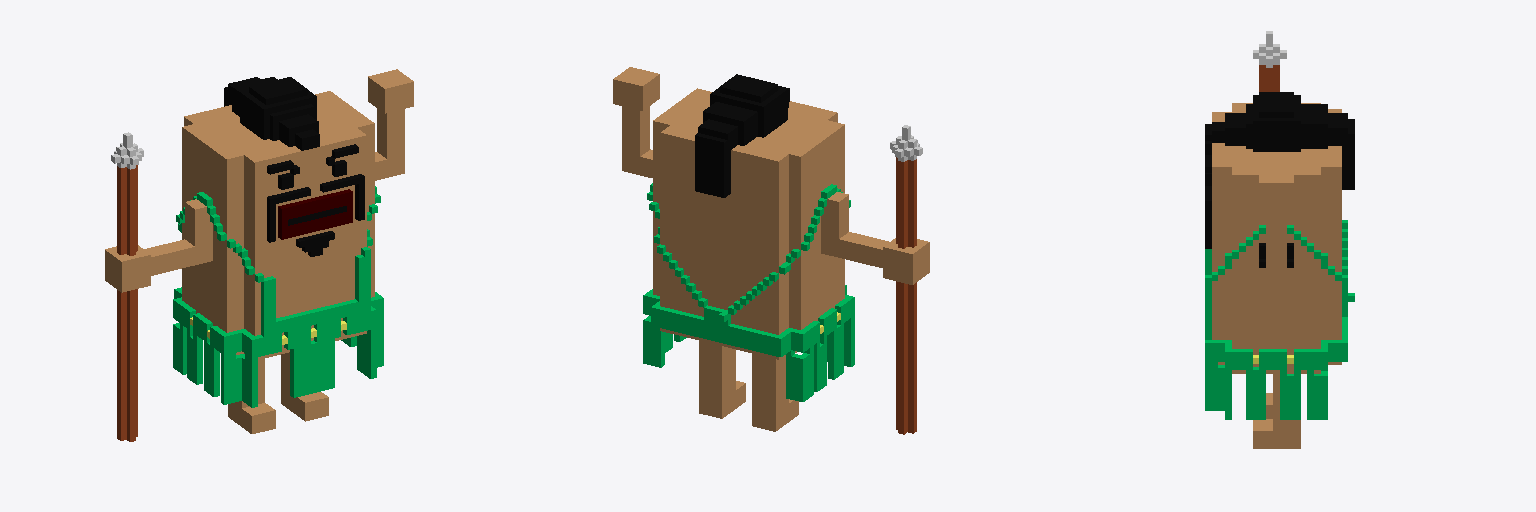
3 views of the same model, side by side, from view 1: azimuth 30°, elevation 25°; view 2: azimuth 150°, elevation 25°; view 3: azimuth 270°, elevation 25° (orthographic).
Size of the model in its own units: 50 by 53 by 22.
Materials: 1 (1 with a texture image).